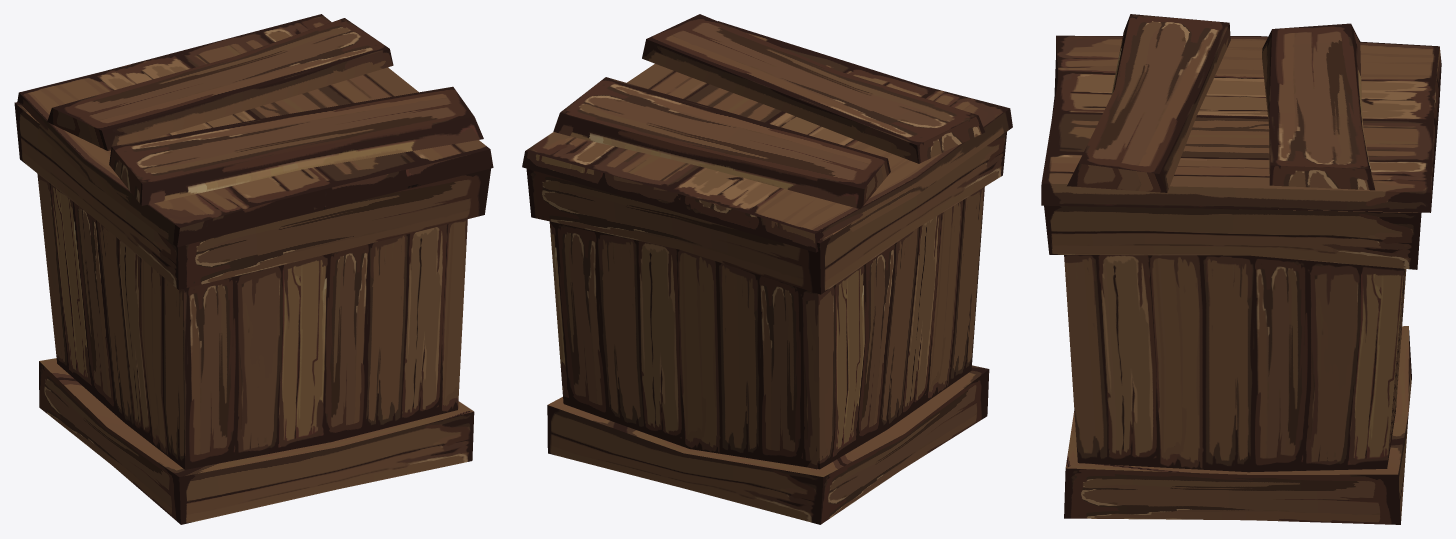
Rendered from Box_Normal.gltf.
The picture shows the model from 3 angles, left to right: view 1: azimuth 30°, elevation 25°; view 2: azimuth 150°, elevation 25°; view 3: azimuth 270°, elevation 25°; orthographic projection. The views are drawn at different scales.
Parts seen in each view (by area): view 1: SM_PROP_box_dungeon_02; view 2: SM_PROP_box_dungeon_02; view 3: SM_PROP_box_dungeon_02.
Boxes of the visible parts, x1,y1,x2,y2 form: SM_PROP_box_dungeon_02: (14, 14, 493, 524); SM_PROP_box_dungeon_02: (522, 14, 1012, 524); SM_PROP_box_dungeon_02: (1041, 14, 1441, 524).
Bounding box in the file's own units: 0.9688 × 0.9504 × 0.9568.
1 material, 1 textured.
